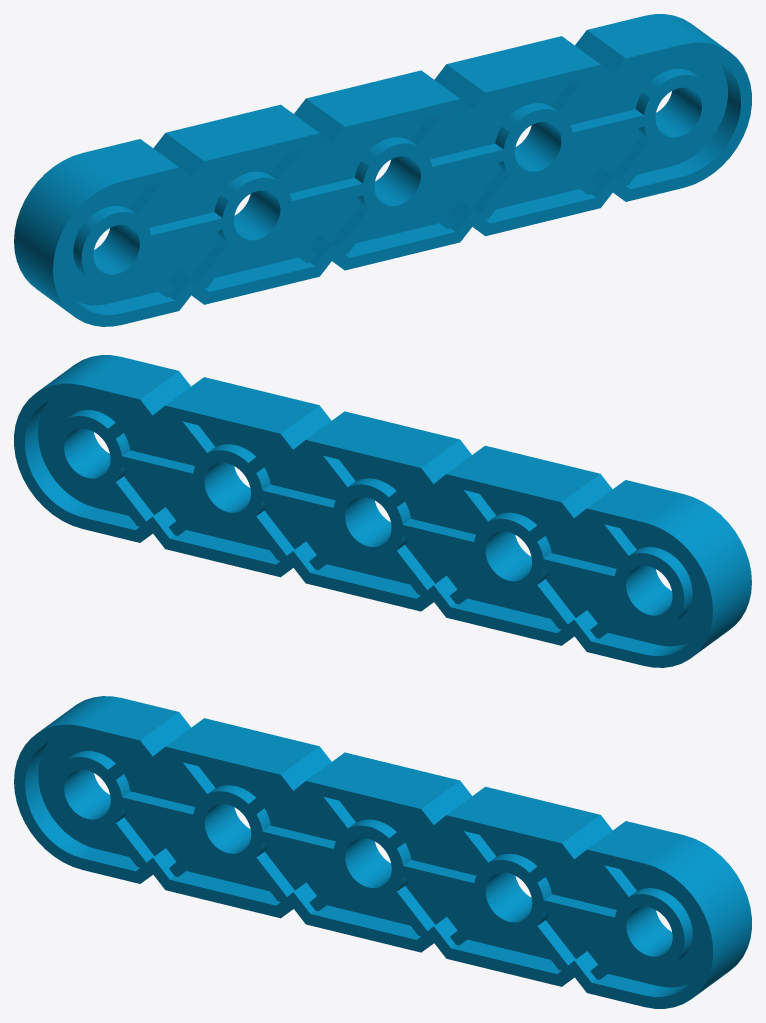
3 views of the same model, one above another, from view 1: azimuth 30°, elevation 25°; view 2: azimuth 150°, elevation 25°; view 3: azimuth 330°, elevation 25° (orthographic).
Parts seen in each view (by area): view 1: main_004c97; view 2: main_004c97; view 3: main_004c97.
Boxes of the visible parts, box(x1,y1,x2,y2) form: main_004c97: box(14, 14, 751, 326); main_004c97: box(14, 355, 751, 667); main_004c97: box(14, 696, 751, 1008).
Size of the model in its own units: 63.18 by 12.4 by 6.1.
